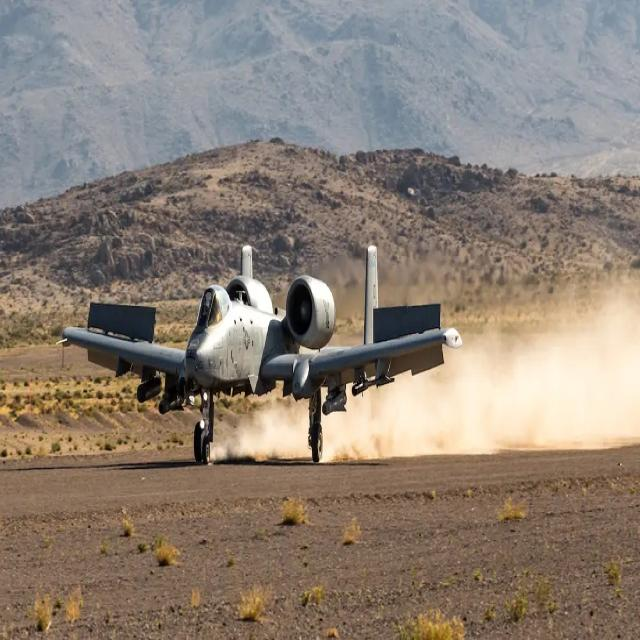MIL_Plane: (56, 243, 463, 463)
